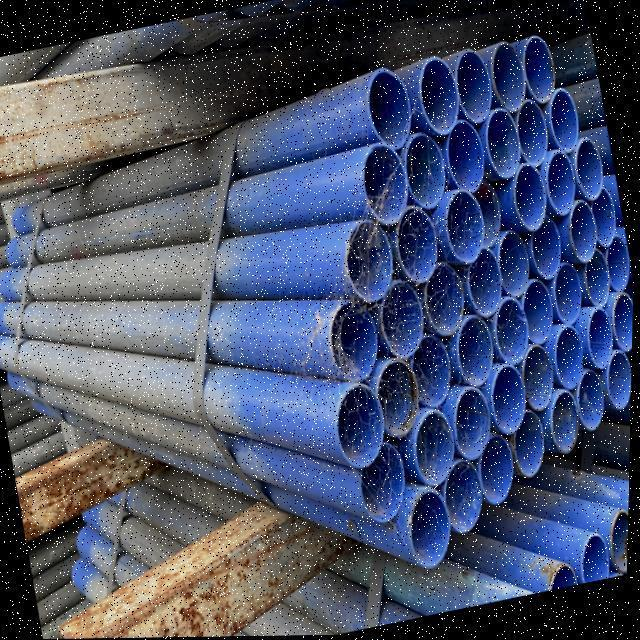pipe: (329, 378, 396, 471), (337, 212, 403, 303), (324, 293, 388, 386), (354, 436, 418, 526), (355, 136, 416, 228), (358, 63, 418, 154), (370, 352, 430, 440), (403, 483, 462, 571), (374, 274, 433, 360), (389, 198, 446, 286), (407, 404, 464, 489), (398, 126, 453, 212), (412, 50, 465, 136), (439, 453, 494, 534), (439, 112, 492, 195), (418, 256, 472, 337), (406, 328, 460, 409), (440, 183, 492, 266), (448, 382, 502, 461), (448, 43, 499, 125), (450, 310, 502, 388), (474, 426, 524, 506), (486, 358, 536, 436), (461, 242, 511, 319), (484, 34, 532, 114), (479, 100, 526, 180), (489, 290, 537, 368), (507, 403, 555, 478), (516, 339, 564, 413), (507, 156, 552, 234), (492, 224, 538, 300), (509, 93, 554, 169), (517, 272, 562, 346), (544, 383, 589, 455), (538, 146, 582, 217), (518, 32, 561, 104), (525, 210, 568, 280), (550, 320, 592, 390), (562, 196, 604, 264), (548, 257, 590, 325), (572, 364, 614, 431), (468, 176, 507, 248), (544, 83, 584, 153), (570, 132, 610, 201), (582, 302, 622, 370), (578, 245, 616, 307), (577, 527, 617, 585), (599, 231, 636, 292), (600, 344, 634, 409), (588, 182, 622, 246), (607, 286, 635, 352), (605, 504, 631, 572), (548, 559, 582, 592)
